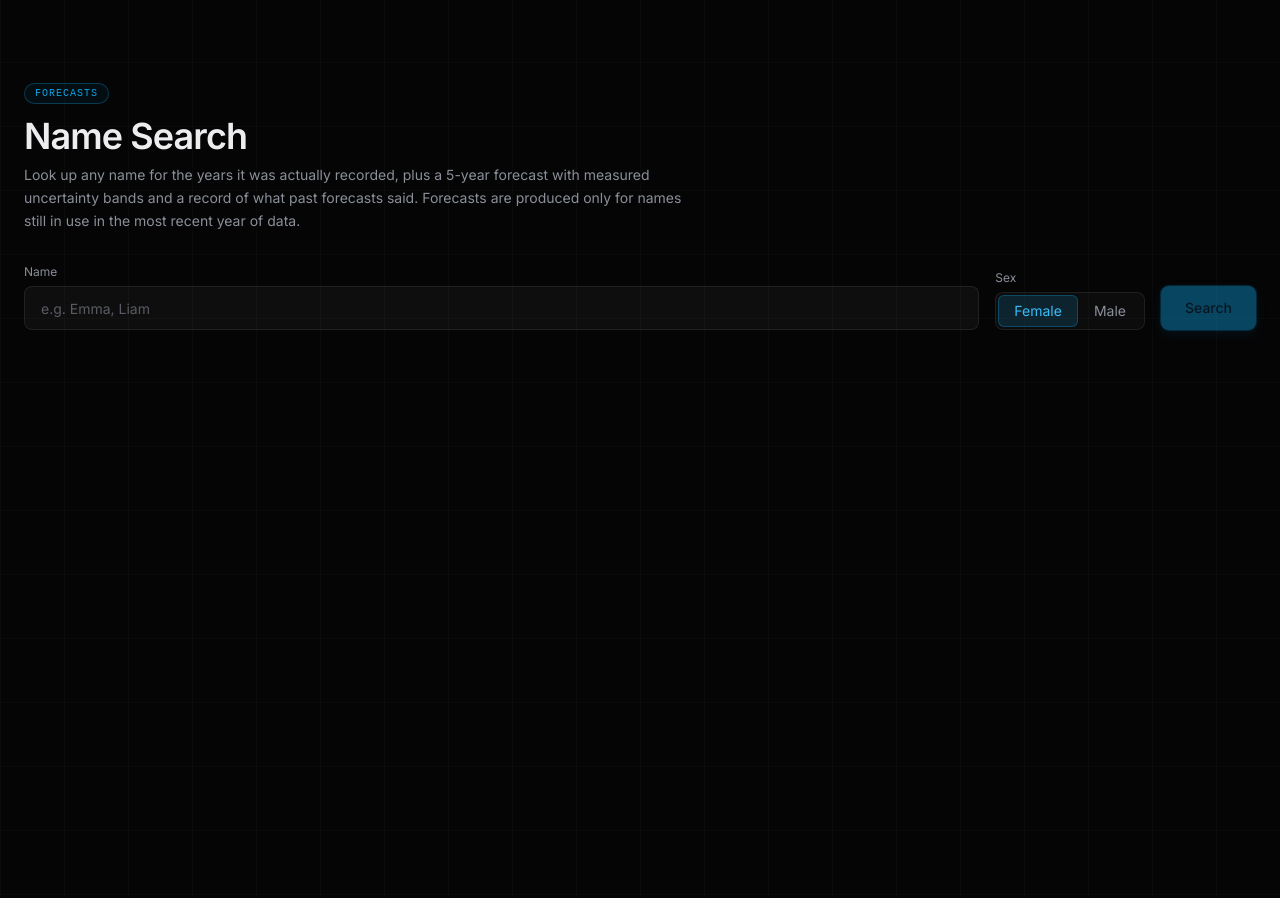
SearchPage trend chart once the forecast has loaded › still breaks the line across years with no recorded births
The width and height of the screenshot is (1280, 898).
Type "Luna" into the field labelled "Name". click: (502, 308)
box: [24, 286, 979, 330]
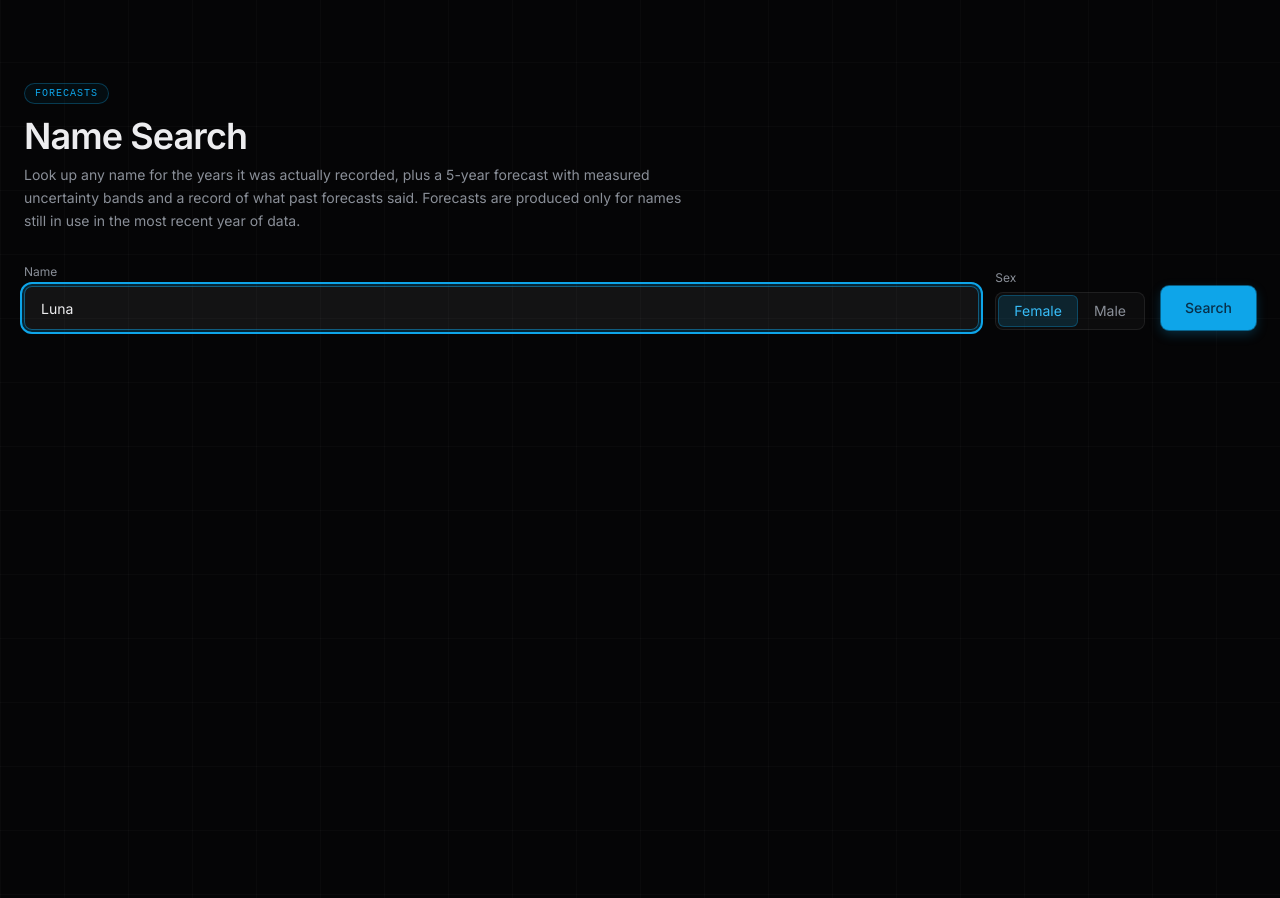
Click the button "Search". click: (1208, 308)
box: [1161, 286, 1256, 330]
(page scrolled)
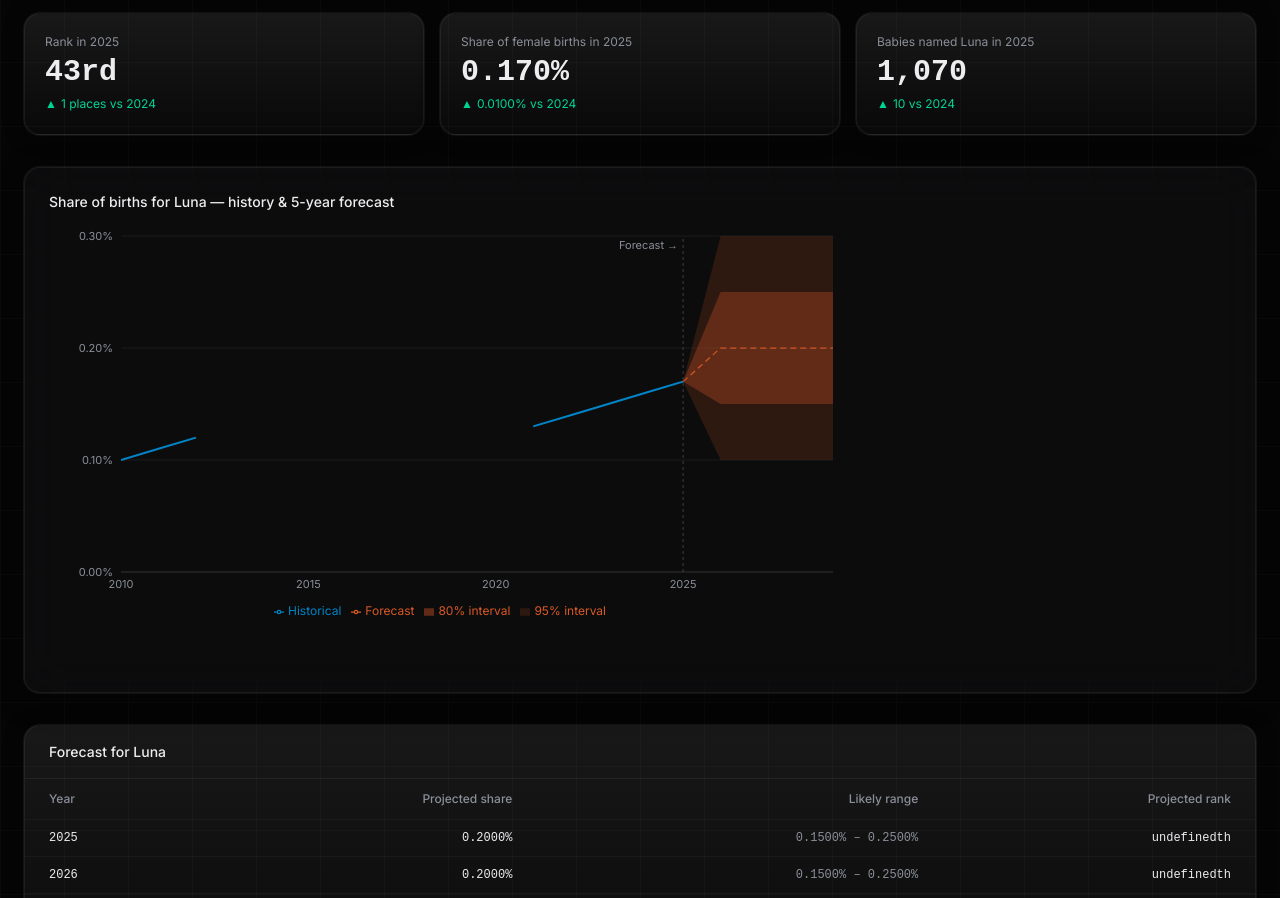
Expected: the picture named "trend and forecast for Luna" is shown, [49, 228, 849, 628]
